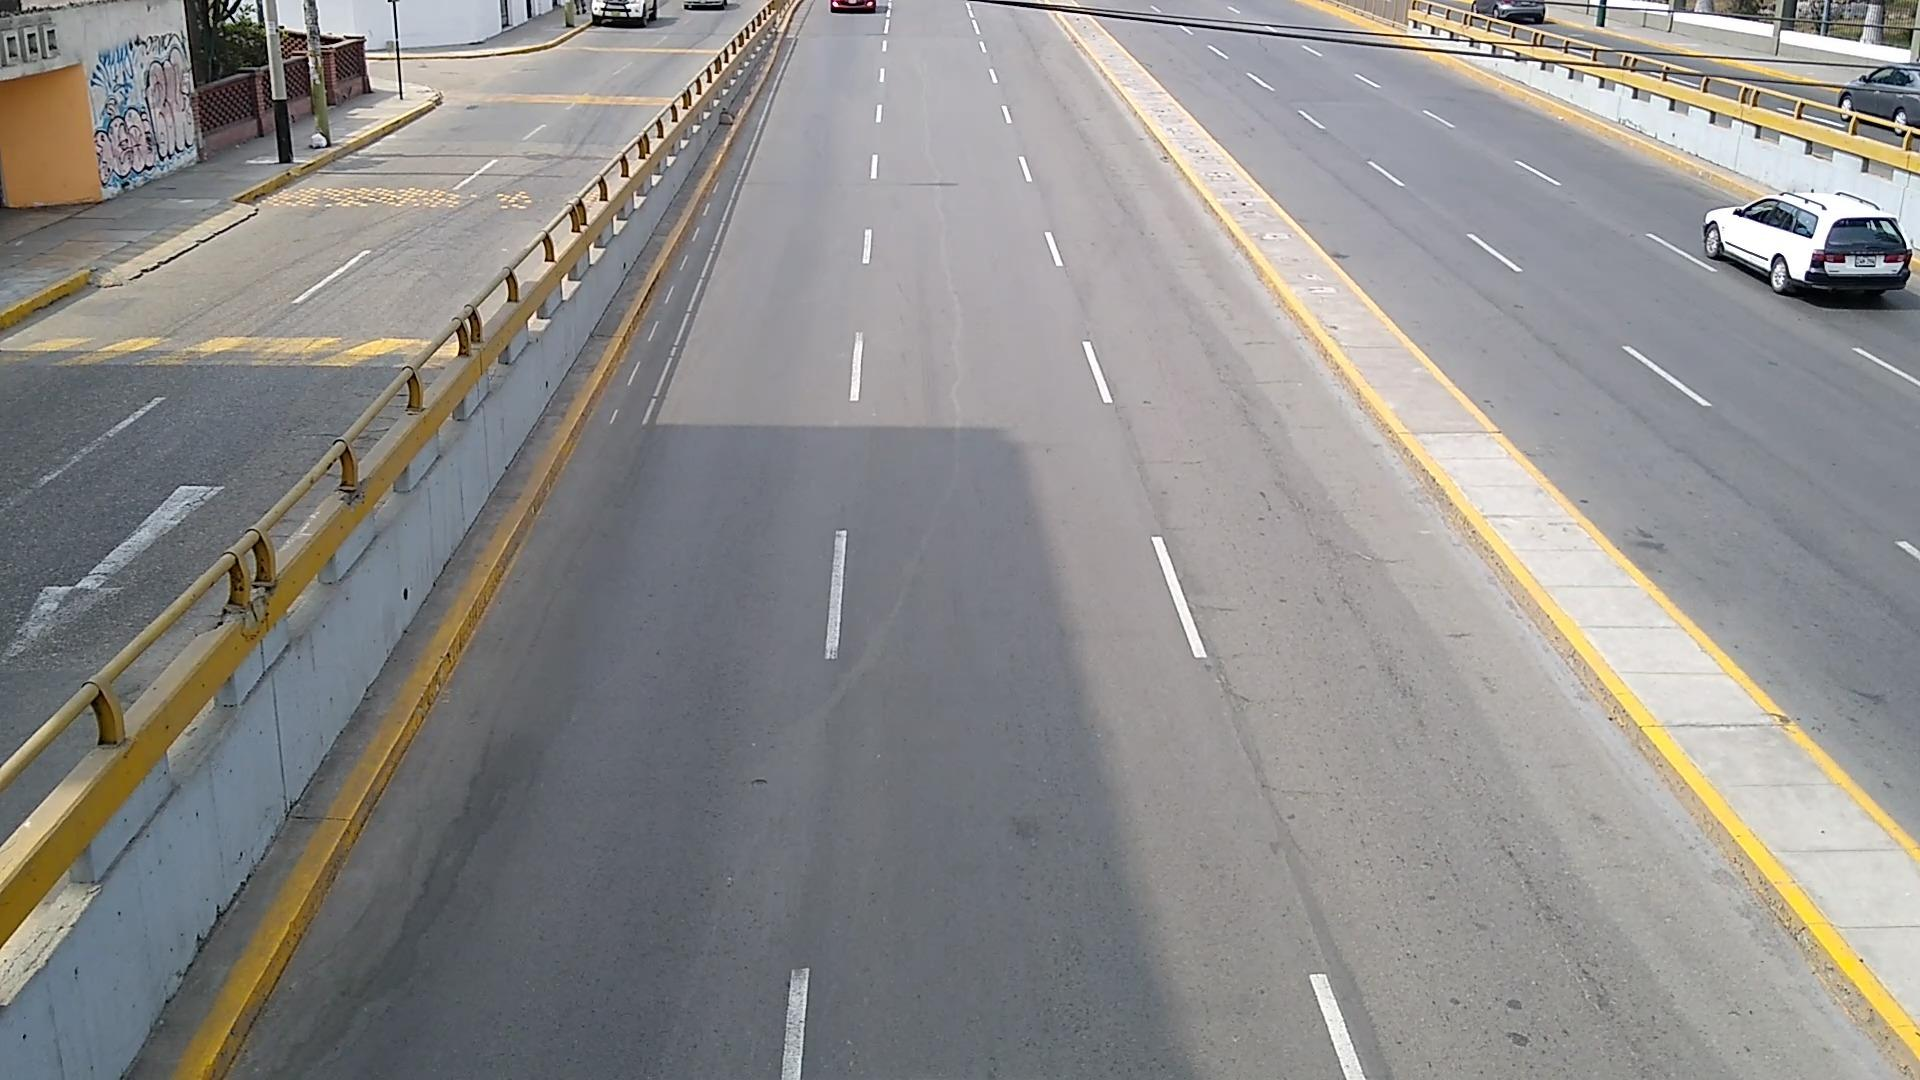car: (1702, 191, 1912, 294), (1837, 63, 1920, 128)
